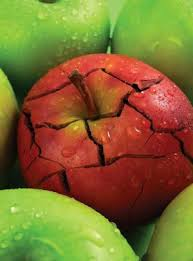damaged_apple: (19, 49, 185, 207)
